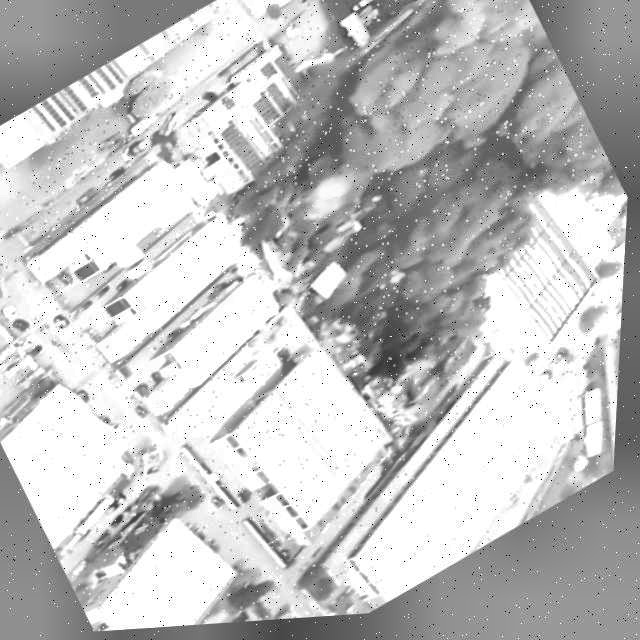Smoke: (270, 0, 640, 322), (207, 69, 504, 446)
